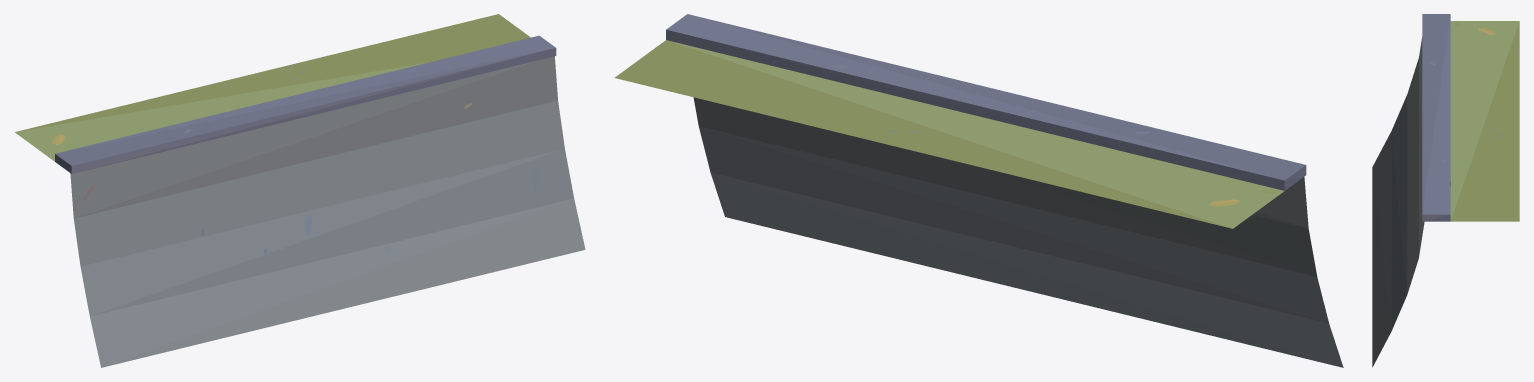
File: HK_Ishigaki.lod.glb
The picture shows the model from 3 angles, left to right: view 1: azimuth 30°, elevation 25°; view 2: azimuth 150°, elevation 25°; view 3: azimuth 270°, elevation 25°; orthographic projection. The views are drawn at different scales.
Visible parts, largest first — view 1: HK_Ishigaki; view 2: HK_Ishigaki; view 3: HK_Ishigaki.
Part boxes in pixels (x1,y1,x2,y2): HK_Ishigaki: [15, 14, 585, 367]; HK_Ishigaki: [614, 14, 1343, 367]; HK_Ishigaki: [1372, 14, 1519, 367].
Bounding box in the file's own units: 10 × 3.57 × 3.1.
